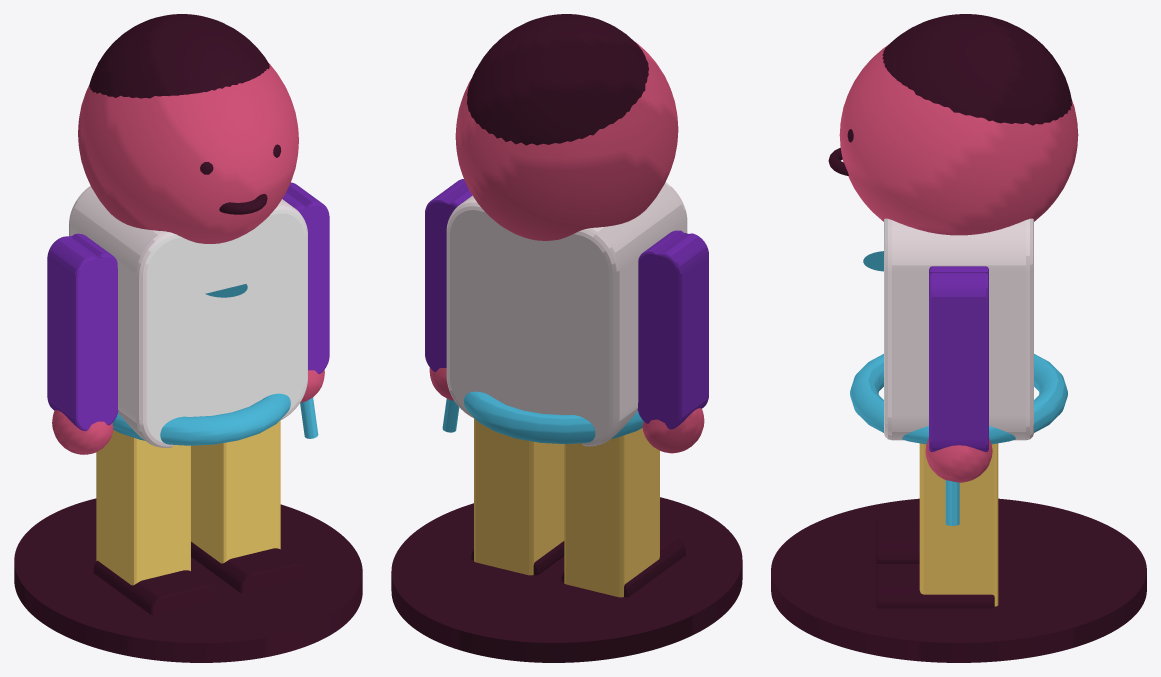
File: 1243_三国演义1_张飞·桃园结义.glb
The picture shows the model from 3 angles, left to right: view 1: azimuth 30°, elevation 25°; view 2: azimuth 150°, elevation 25°; view 3: azimuth 270°, elevation 25°; orthographic projection.
Parts seen in each view (by area): view 1: card_1243; view 2: card_1243; view 3: card_1243.
Boxes of the visible parts, box(x1,y1,x2,y2) form: card_1243: box(14, 14, 362, 662); card_1243: box(391, 14, 742, 662); card_1243: box(771, 14, 1146, 662).
Size of the model in its own units: 0.5405 by 1 by 0.5887.
